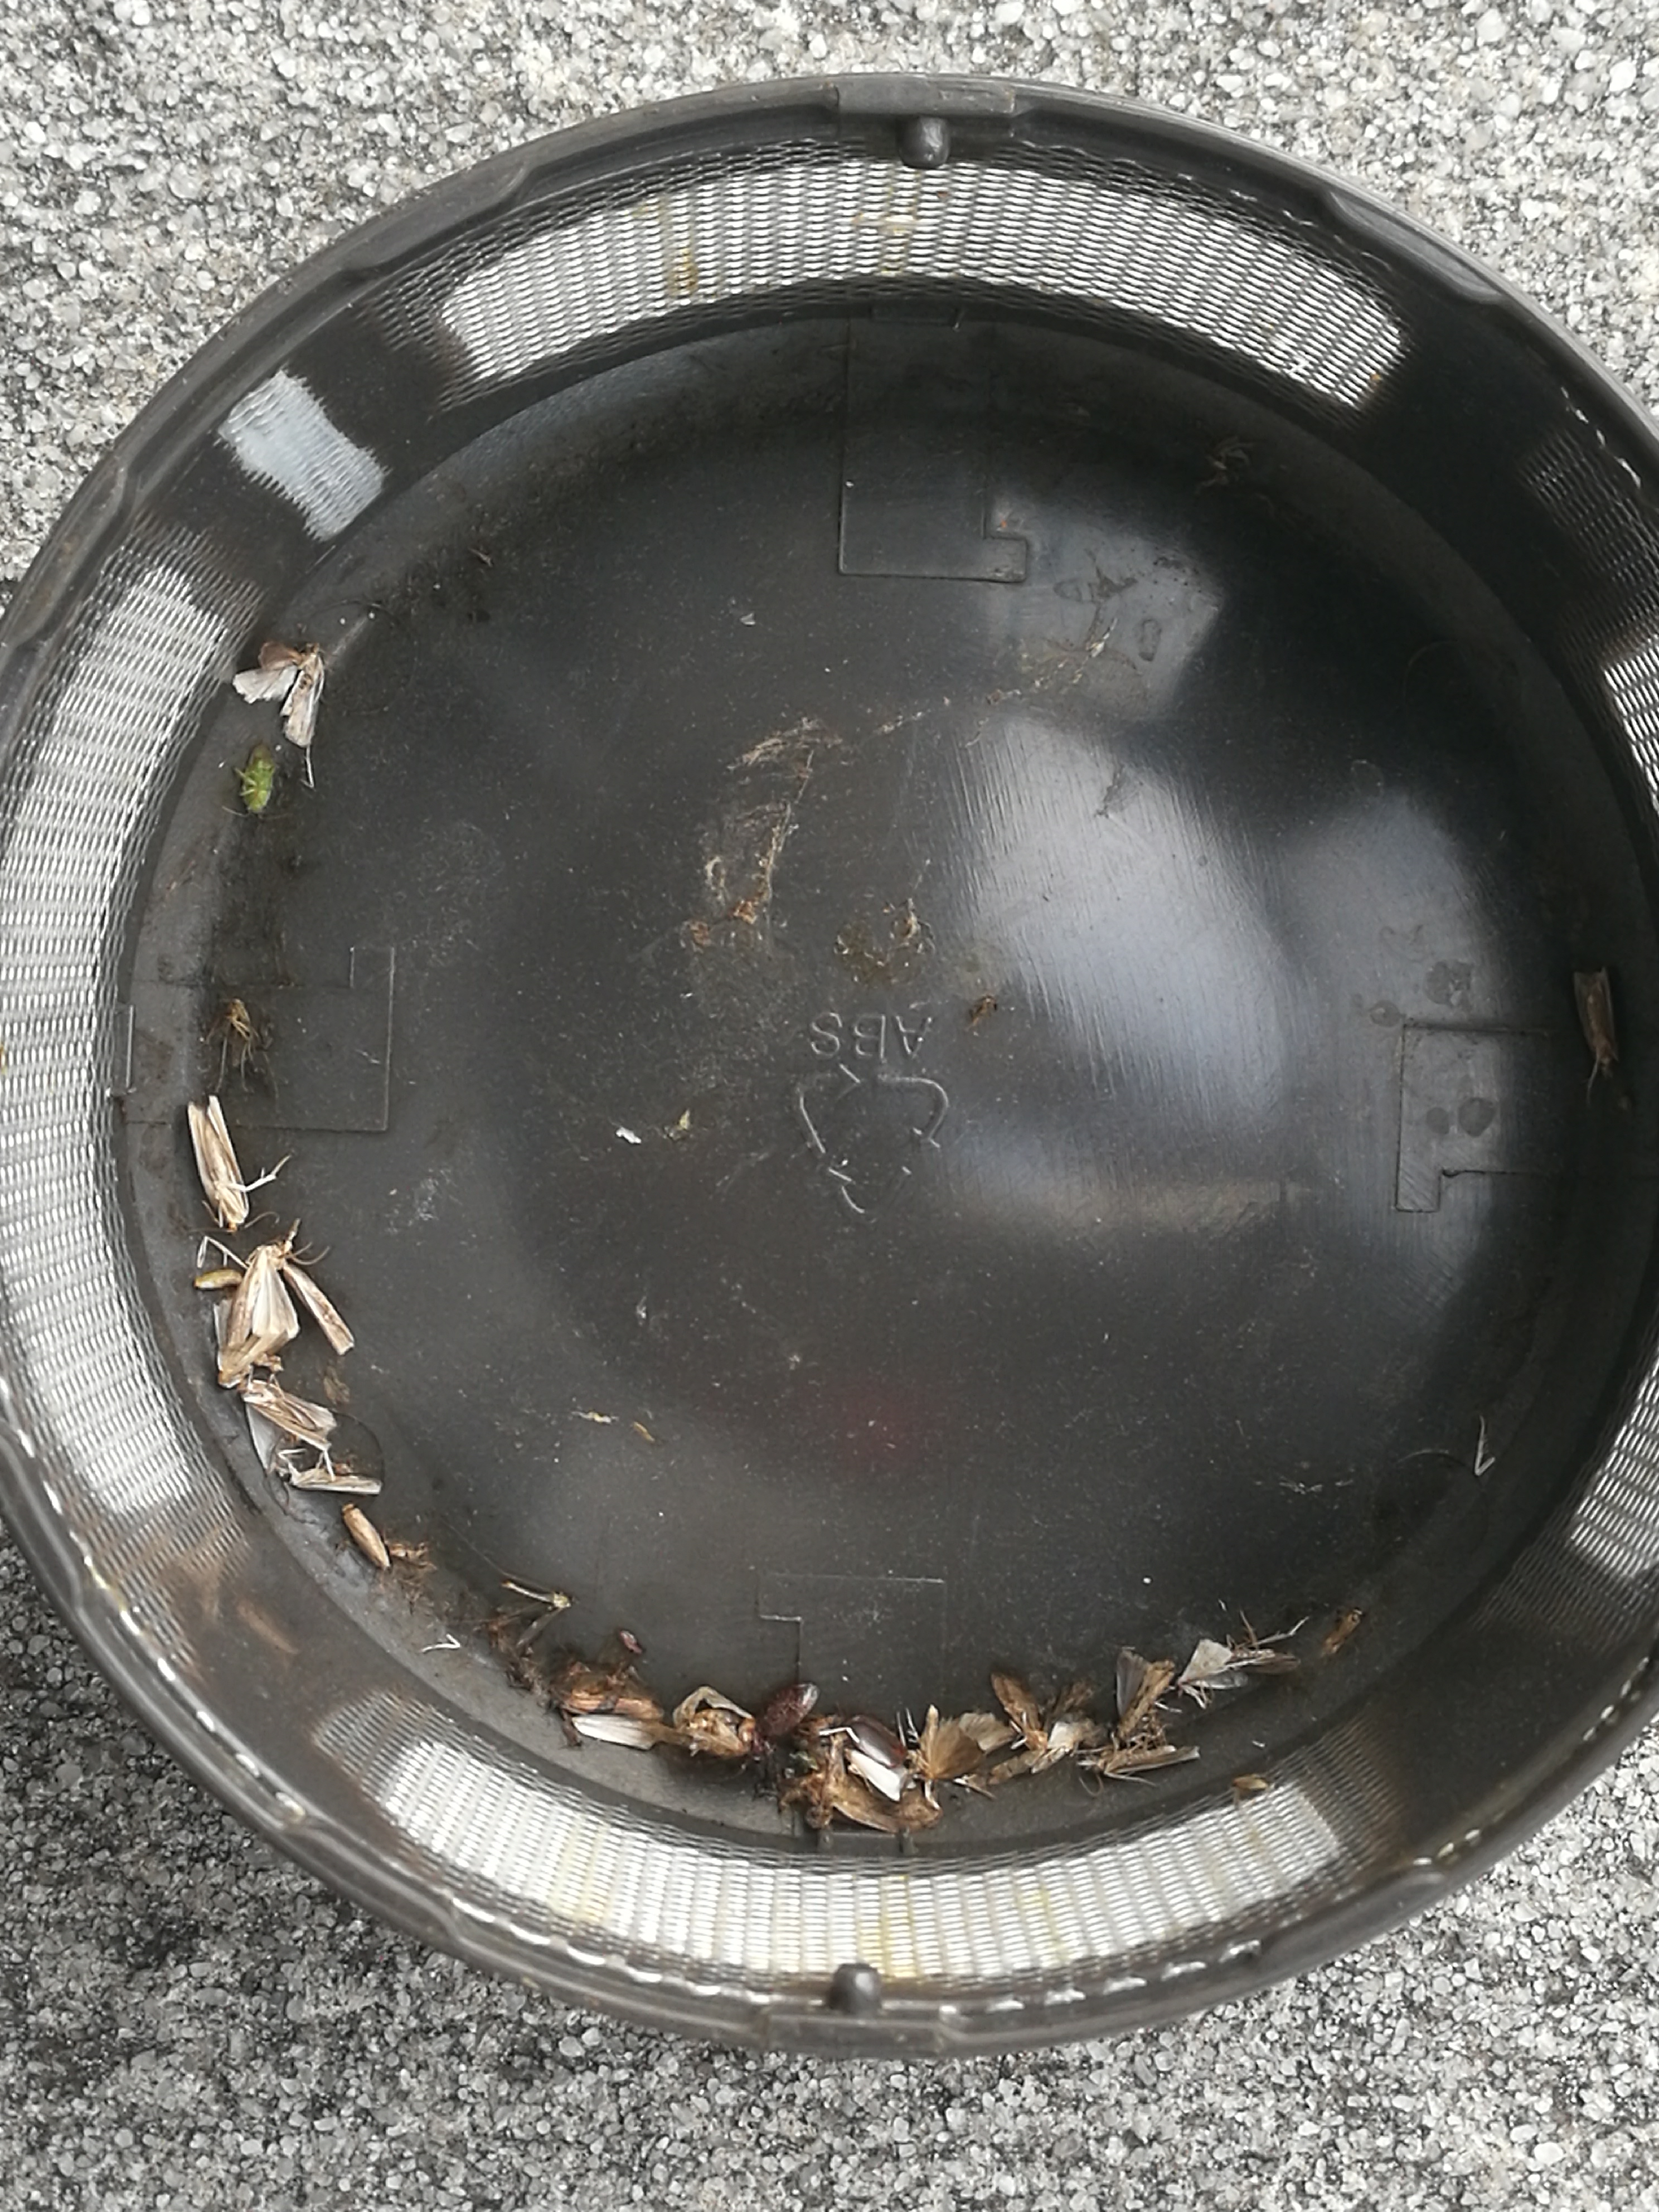beetle: (756, 1684, 819, 1737)
mosquito: (188, 1096, 249, 1231), (281, 1261, 354, 1355), (1574, 965, 1615, 1076), (554, 1689, 662, 1723), (1079, 1745, 1197, 1773), (342, 1501, 389, 1569), (284, 1468, 382, 1494), (1229, 1648, 1298, 1672)
moth: (235, 643, 324, 745), (228, 1242, 300, 1346), (216, 1298, 284, 1386), (1115, 1646, 1175, 1737), (922, 1703, 985, 1778), (1175, 1639, 1249, 1691), (843, 1749, 901, 1801)
